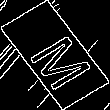M_NE: (16, 22, 94, 88)
